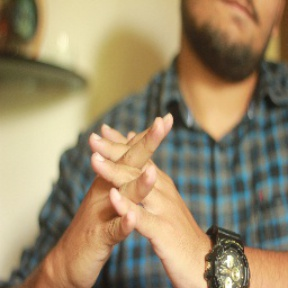W: (79, 96, 185, 270)
